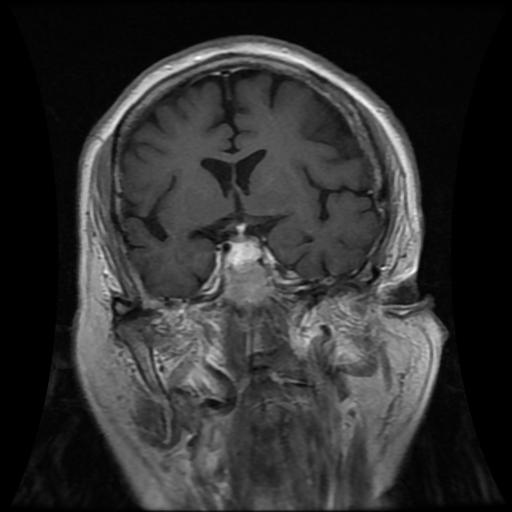Pituirity_tumour: (228, 238, 261, 264)
